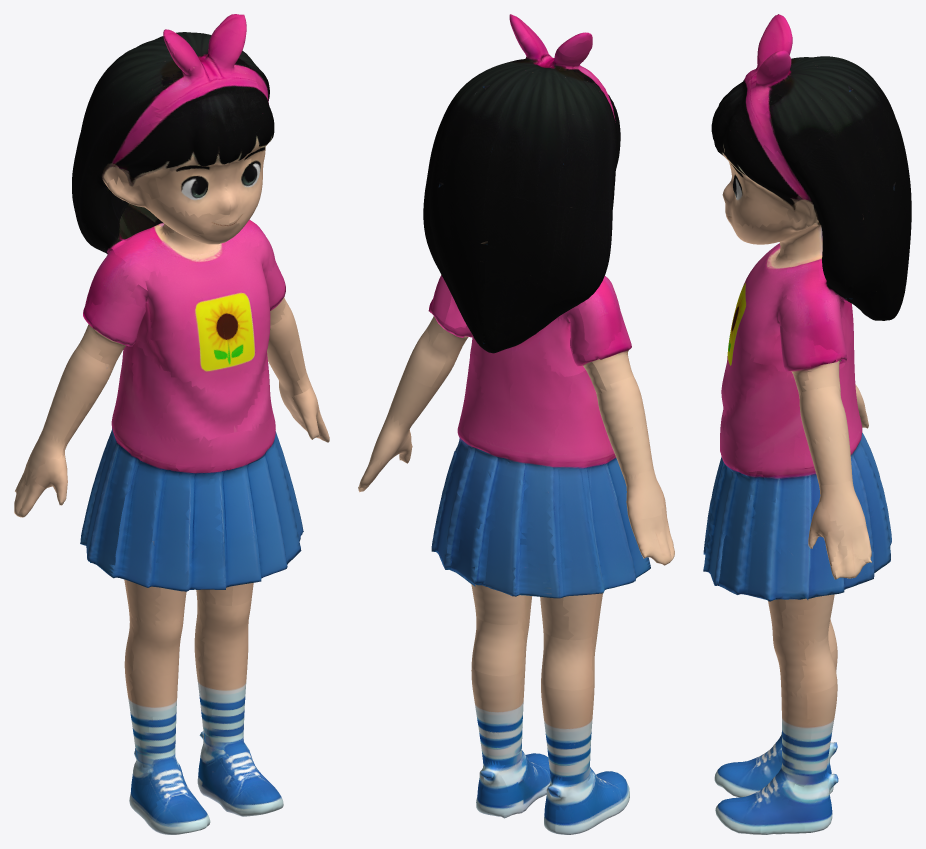
File: avatar-tee-skirt.glb
3 views of the same model, side by side, from view 1: azimuth 30°, elevation 25°; view 2: azimuth 150°, elevation 25°; view 3: azimuth 270°, elevation 25° (orthographic).
Parts seen in each view (by area): view 1: avatar-tee-skirt-mesh; view 2: avatar-tee-skirt-mesh; view 3: avatar-tee-skirt-mesh.
Part boxes in pixels (x1,y1,x2,y2): avatar-tee-skirt-mesh: [14, 14, 329, 834]; avatar-tee-skirt-mesh: [358, 14, 674, 834]; avatar-tee-skirt-mesh: [703, 14, 911, 834].
Size of the model in its own units: 0.6218 by 1.5 by 0.3658.
1 material, 1 textured.
